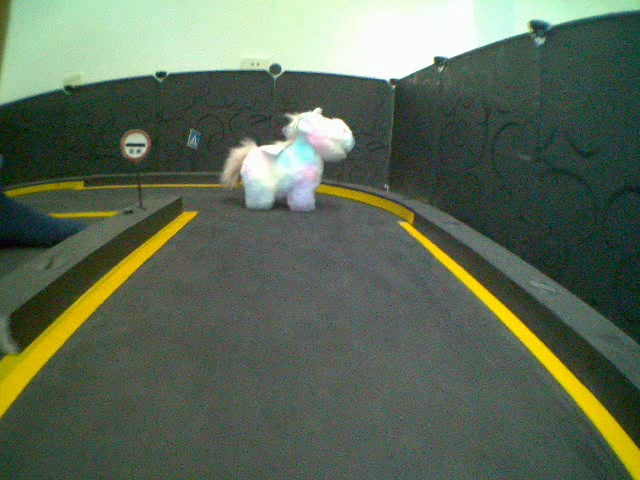unicorn: (222, 104, 357, 208)
